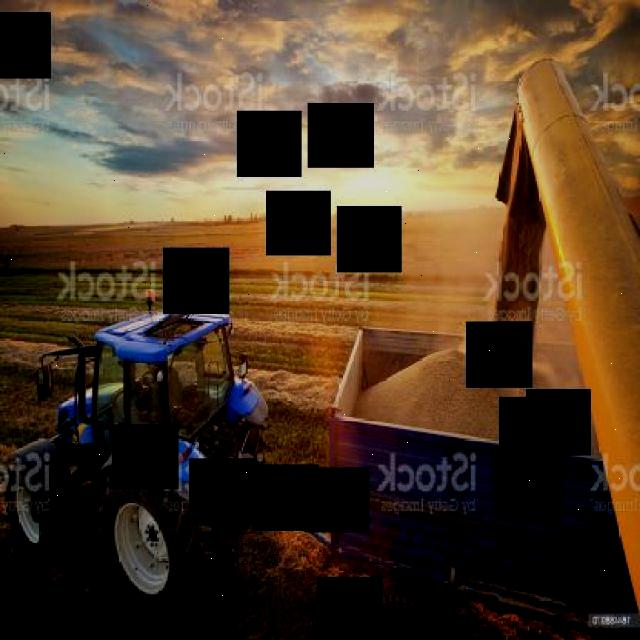Tratores - v5 YOLO V8L 2024-11-13: (1, 263, 312, 640)
